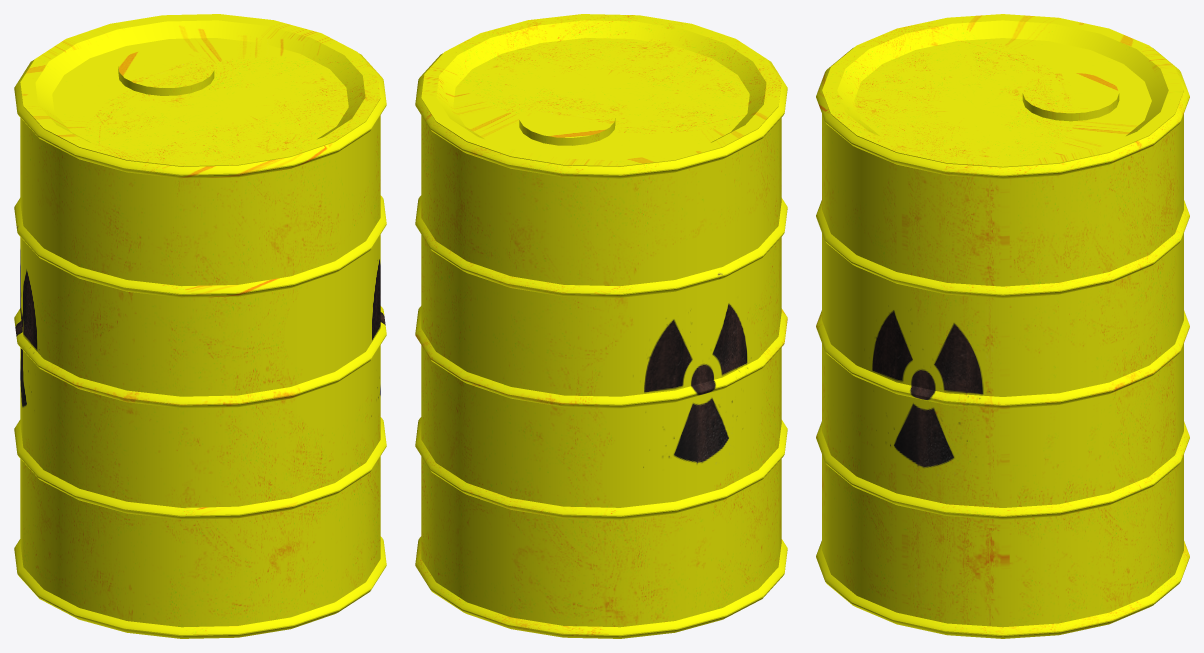
Rendered from fass_final.glb.
The picture shows the model from 3 angles, left to right: view 1: azimuth 30°, elevation 25°; view 2: azimuth 150°, elevation 25°; view 3: azimuth 270°, elevation 25°; orthographic projection.
Parts seen in each view (by area): view 1: polySurface5; view 2: polySurface5; view 3: polySurface5.
Boxes of the visible parts, bbox=[...] form: polySurface5: bbox=[14, 14, 386, 638]; polySurface5: bbox=[415, 14, 787, 638]; polySurface5: bbox=[816, 14, 1189, 638].
Size of the model in its own units: 1.44 by 2 by 1.44.
Materials: 1 (1 with a texture image).
